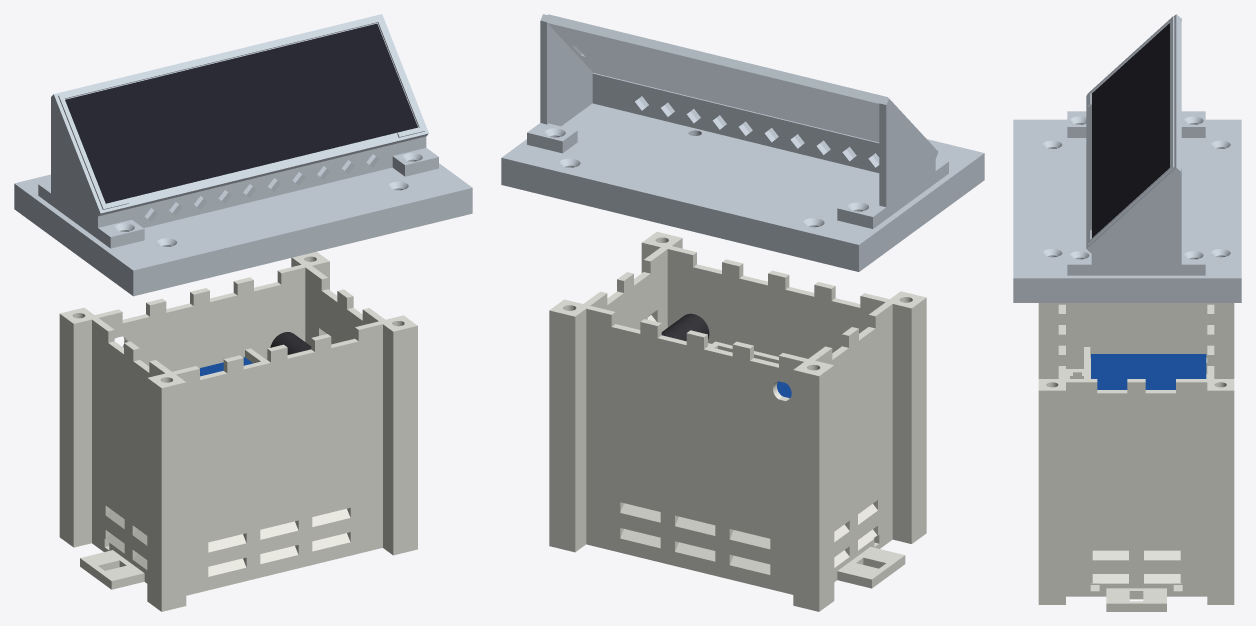
File: assembly.glb
3 views of the same model, side by side, from view 1: azimuth 30°, elevation 25°; view 2: azimuth 150°, elevation 25°; view 3: azimuth 270°, elevation 25° (orthographic). The views are drawn at different scales.
Parts seen in each view (by area): view 1: body, panel, lid, wedge; view 2: body, lid, wedge, cell; view 3: body, lid, wedge, panel, pcb.
Boxes of the visible parts, <box> form: body: <box>59,251,417,611</box>; panel: <box>65,23,417,203</box>; lid: <box>14,154,472,296</box>; wedge: <box>38,14,438,248</box>; body: <box>549,232,926,611</box>; lid: <box>501,96,984,271</box>; wedge: <box>527,14,948,228</box>; cell: <box>661,313,709,341</box>; body: <box>1038,303,1234,611</box>; lid: <box>1013,119,1241,302</box>; wedge: <box>1067,14,1205,275</box>; panel: <box>1092,23,1169,237</box>; pcb: <box>1091,354,1206,389</box>.
Size of the model in its own units: 0.124 by 0.1655 by 0.0754.
